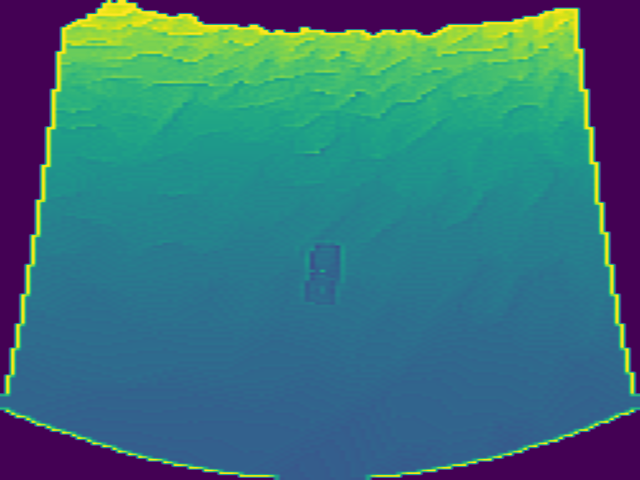car_0198: (304, 240, 342, 306)
